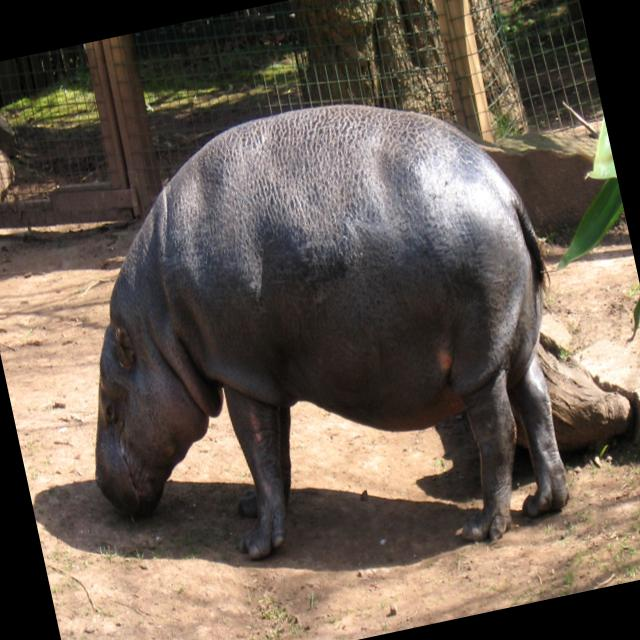hippo: (0, 47, 620, 640)
